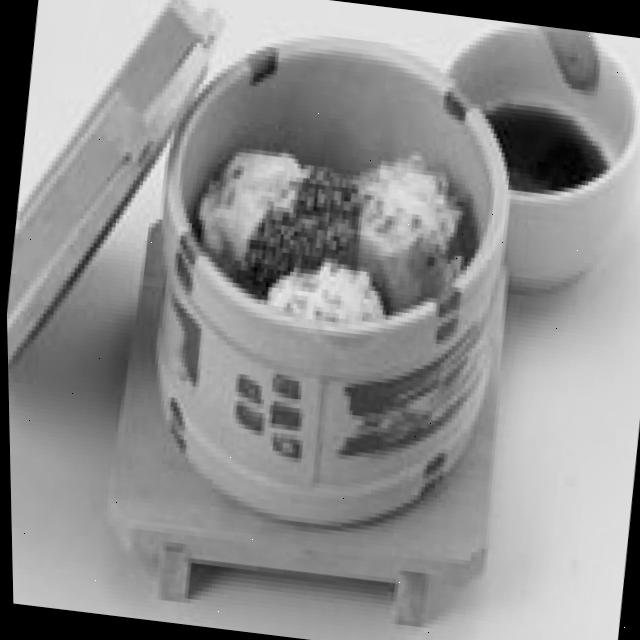带馅早点: (174, 114, 477, 340)
